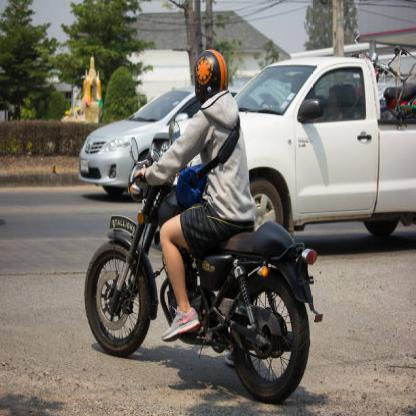Motorcycle: (80, 140, 314, 403)
